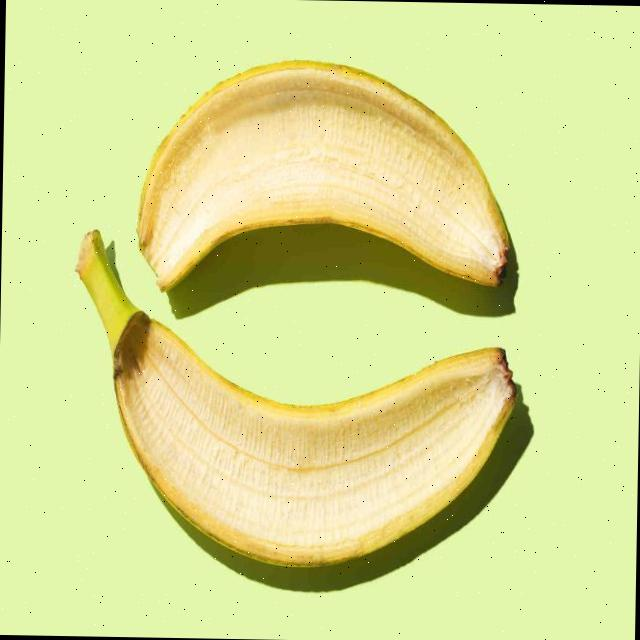banana-peel: (68, 226, 520, 572), (133, 54, 514, 298)
